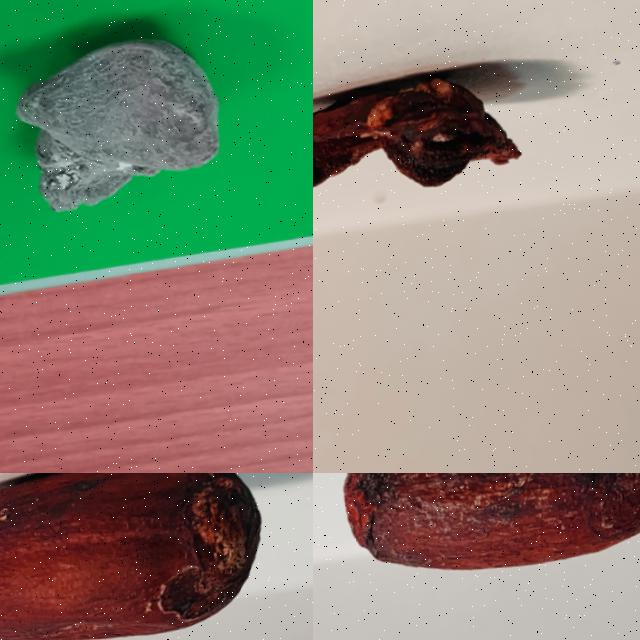Agglomerated_cocoabeans: (0, 0, 290, 256)
Fine_cocoabeans: (0, 473, 312, 639), (313, 473, 639, 618)
Flat_cocoabeans: (313, 10, 639, 246)
